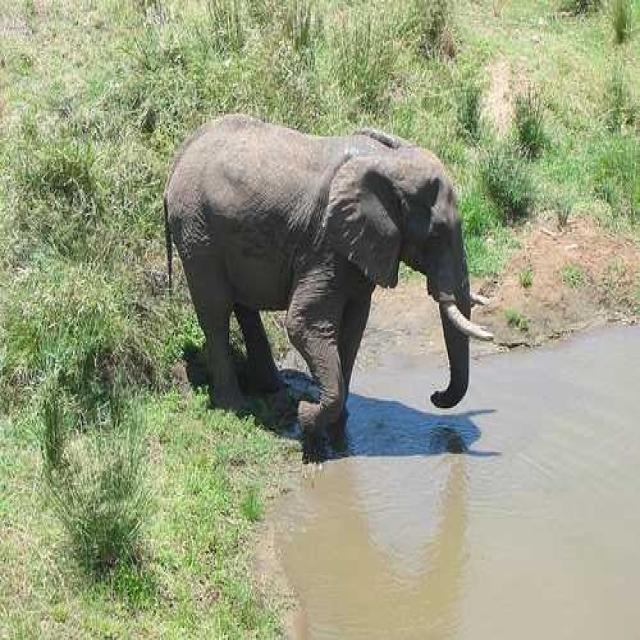Elephant: (161, 111, 494, 457)
